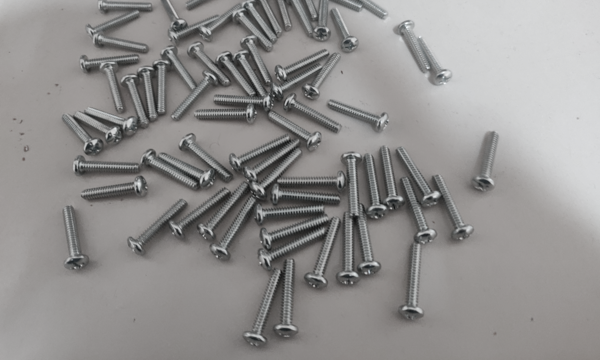longscrew: (129, 199, 184, 253), (213, 197, 256, 266), (261, 216, 331, 257), (259, 225, 328, 266), (245, 267, 279, 349), (199, 182, 247, 238), (171, 187, 228, 234), (252, 152, 308, 198), (395, 149, 440, 206), (306, 218, 343, 287), (175, 134, 230, 178), (243, 141, 299, 182), (436, 176, 471, 241), (140, 151, 198, 190), (285, 94, 342, 133), (331, 93, 388, 132), (404, 177, 436, 246), (273, 258, 299, 342), (228, 134, 290, 166), (403, 237, 424, 330), (271, 62, 321, 100), (174, 73, 215, 119), (62, 203, 87, 274), (472, 133, 501, 194), (158, 153, 219, 182), (231, 4, 271, 48), (270, 114, 321, 148), (271, 184, 343, 208), (303, 55, 343, 98), (188, 41, 226, 86), (276, 170, 347, 194), (79, 178, 150, 202), (75, 110, 125, 144), (239, 37, 277, 81), (234, 52, 272, 96), (216, 52, 254, 96), (275, 47, 327, 79), (253, 205, 325, 228), (161, 45, 197, 89), (358, 206, 380, 276), (85, 9, 137, 38), (380, 148, 403, 213), (339, 214, 360, 285), (123, 74, 151, 127), (59, 114, 98, 152), (200, 1, 240, 38), (84, 108, 136, 135), (167, 14, 219, 41), (419, 38, 450, 83), (68, 155, 150, 171), (246, 0, 277, 42), (212, 90, 275, 110), (344, 150, 363, 216), (405, 21, 428, 74), (194, 106, 258, 125), (365, 156, 384, 217), (92, 32, 149, 52), (334, 7, 359, 52), (138, 64, 156, 122), (80, 53, 139, 70), (102, 63, 120, 116), (155, 58, 171, 116), (259, 0, 281, 36), (343, 0, 389, 17), (161, 0, 185, 32), (94, 0, 153, 13), (294, 0, 313, 38), (315, 0, 331, 42), (312, 0, 367, 11), (275, 0, 290, 34), (185, 0, 236, 8), (297, 0, 316, 19)
